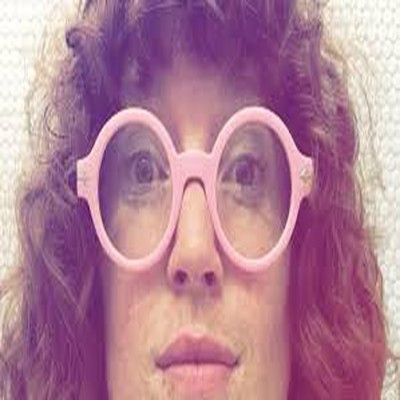eywear: (73, 82, 341, 279)
